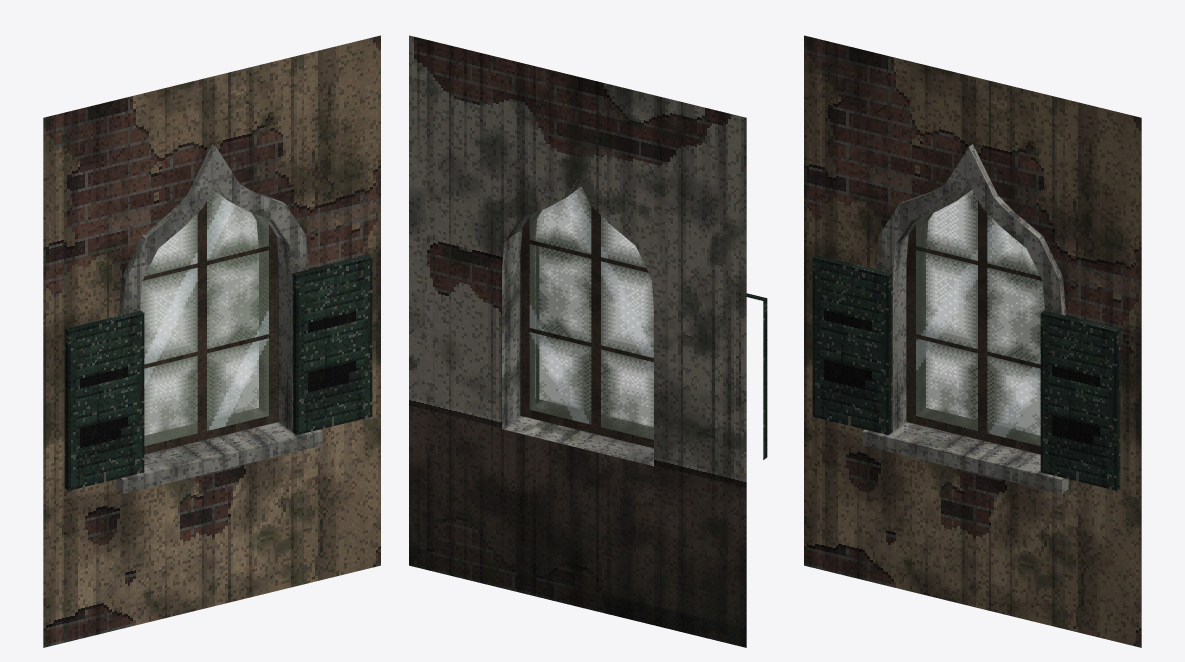
File: ext_window_gothic.gltf
3 renders of one model, left to right at view 1: azimuth 30°, elevation 25°; view 2: azimuth 150°, elevation 25°; view 3: azimuth 330°, elevation 25°, orthographic.
Visible parts, largest first — view 1: ext_window_gothic; view 2: ext_window_gothic; view 3: ext_window_gothic.
Part boxes in pixels (x1=…): ext_window_gothic: x1=43, y1=35, x2=380, y2=647; ext_window_gothic: x1=409, y1=35, x2=767, y2=647; ext_window_gothic: x1=804, y1=35, x2=1141, y2=647.
Size of what is drawn, in the model's own units: 2 by 3 by 0.41.
Materials: 5 (5 with a texture image).
